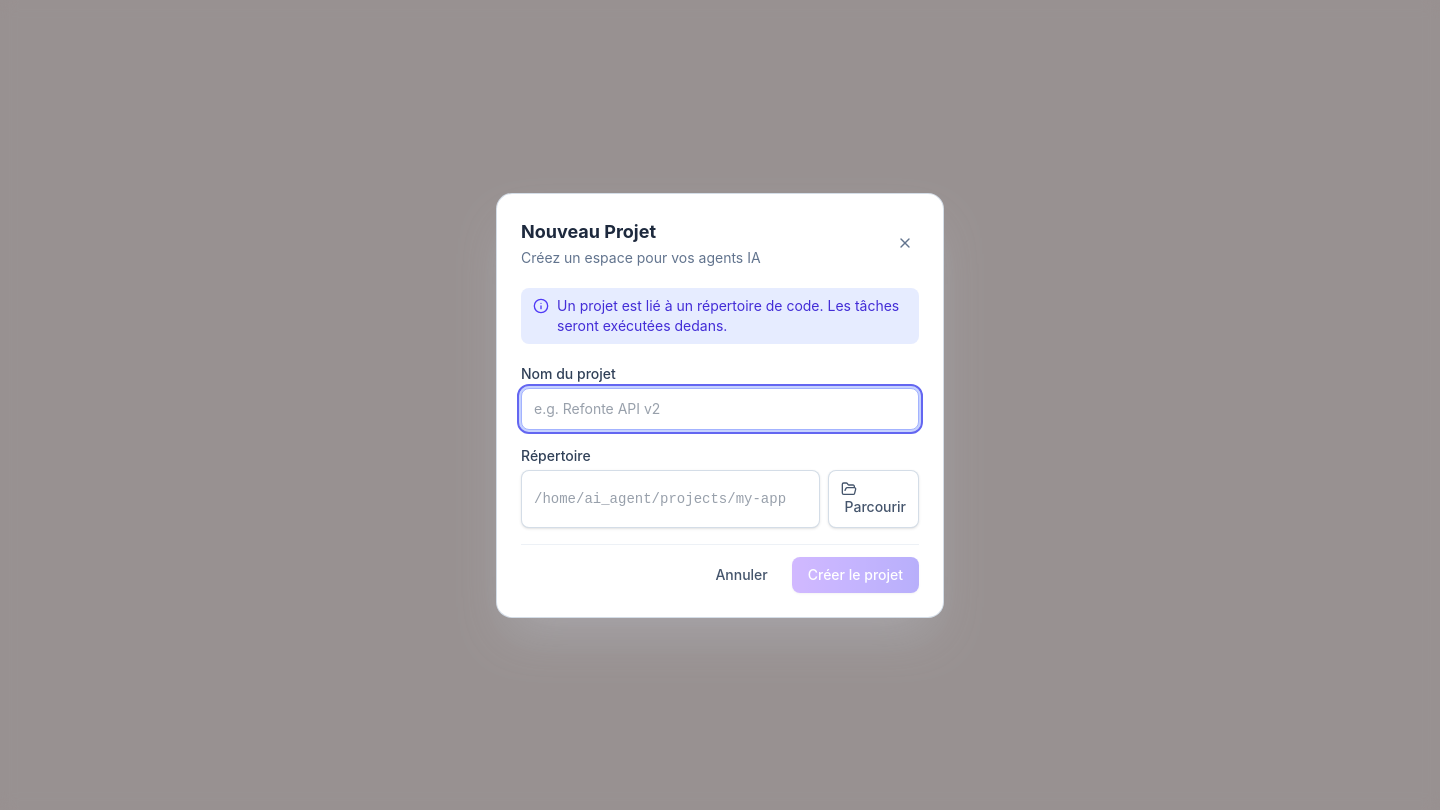
NewSessionModal — new project mode (no defaultDirectory) › submit button is disabled until both titre and directory are filled
Expected: the button "Créer le projet" is disabled, [792, 556, 919, 592]
Type "Mon projet" into the field with placeholder "e.g. Refonte API v2".
click(720, 408); type("Mon projet")  # box [521, 388, 919, 430]
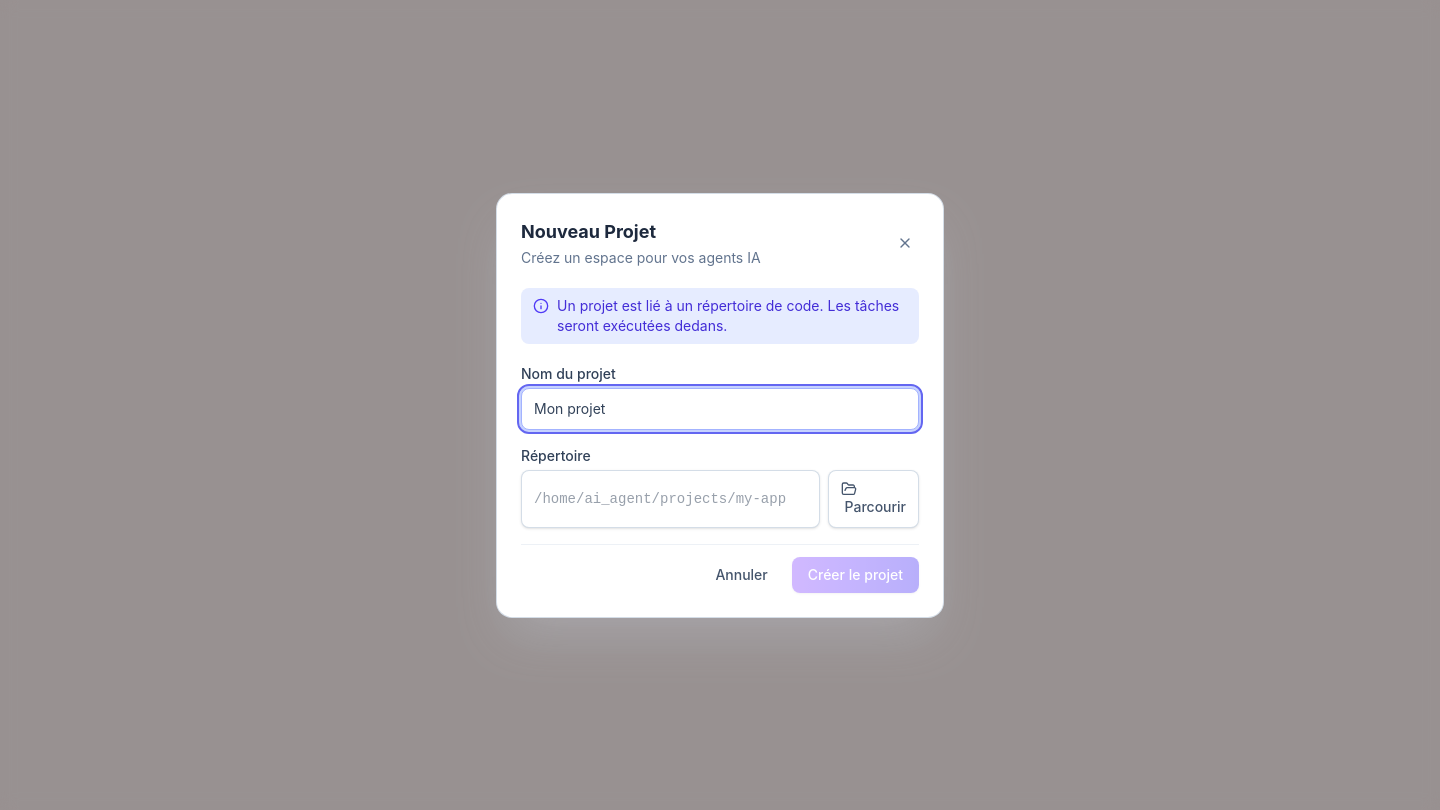
Expected: the button "Créer le projet" is disabled, [792, 556, 919, 592]
Type "/some/path" into the field with placeholder "/home/ai_agent/projects/my-app".
click(670, 498); type("/some/path")  # box [521, 470, 820, 528]
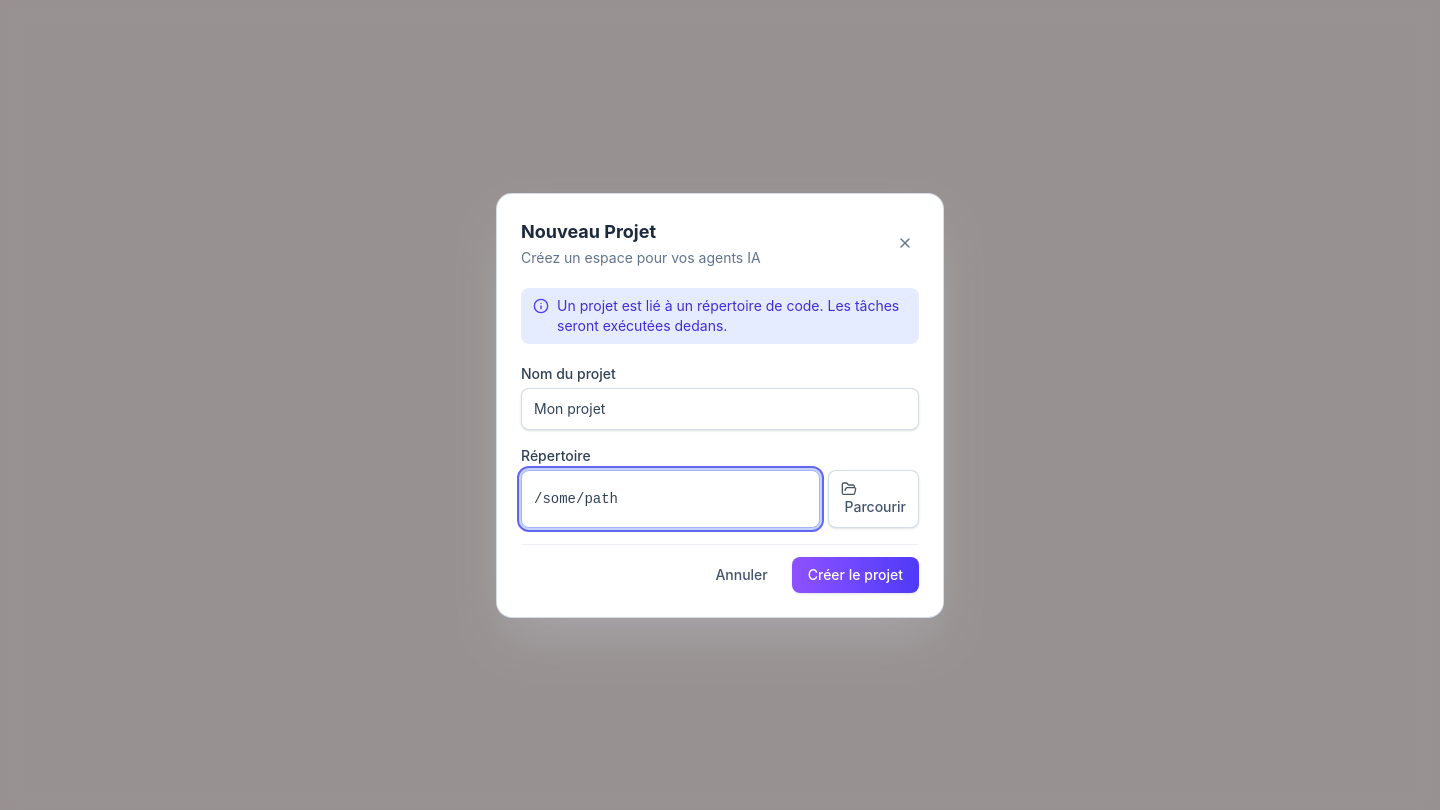
Expected: the button "Créer le projet" is enabled, [792, 556, 919, 592]
